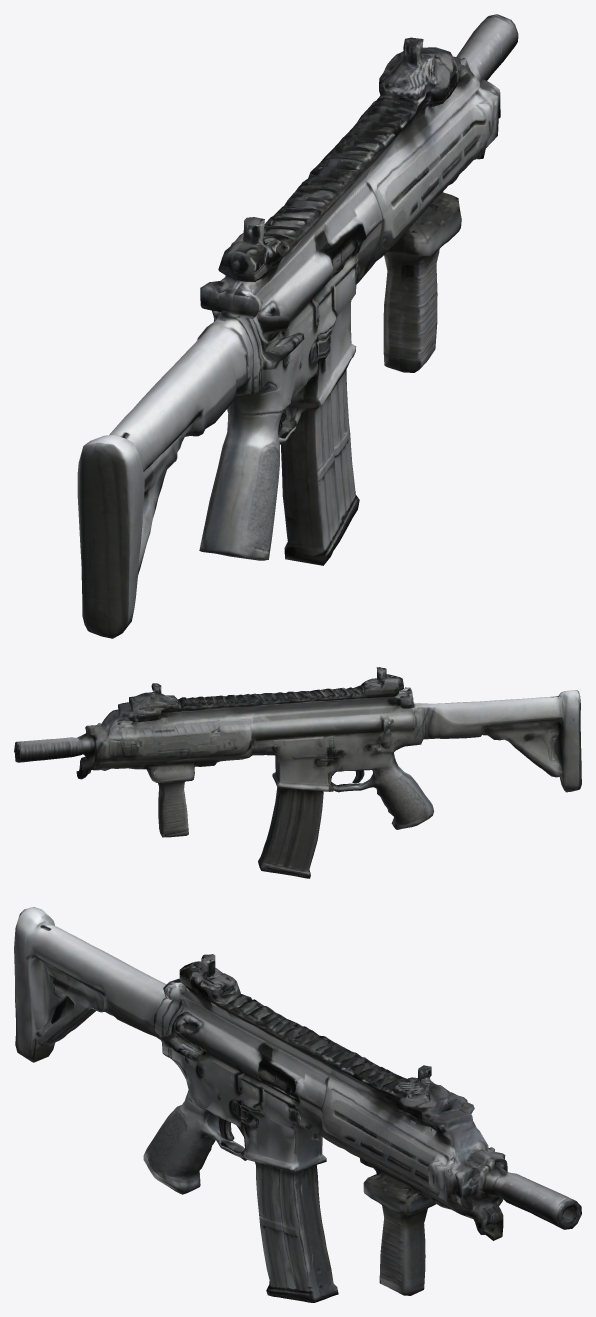
File: rifle.glb
3 views of the same model, one above another, from view 1: azimuth 30°, elevation 25°; view 2: azimuth 150°, elevation 25°; view 3: azimuth 270°, elevation 25° (orthographic). The views are drawn at different scales.
Bounding box in the file's own units: 2.01 × 0.9821 × 1.69.
Materials: 1 (1 with a texture image).
